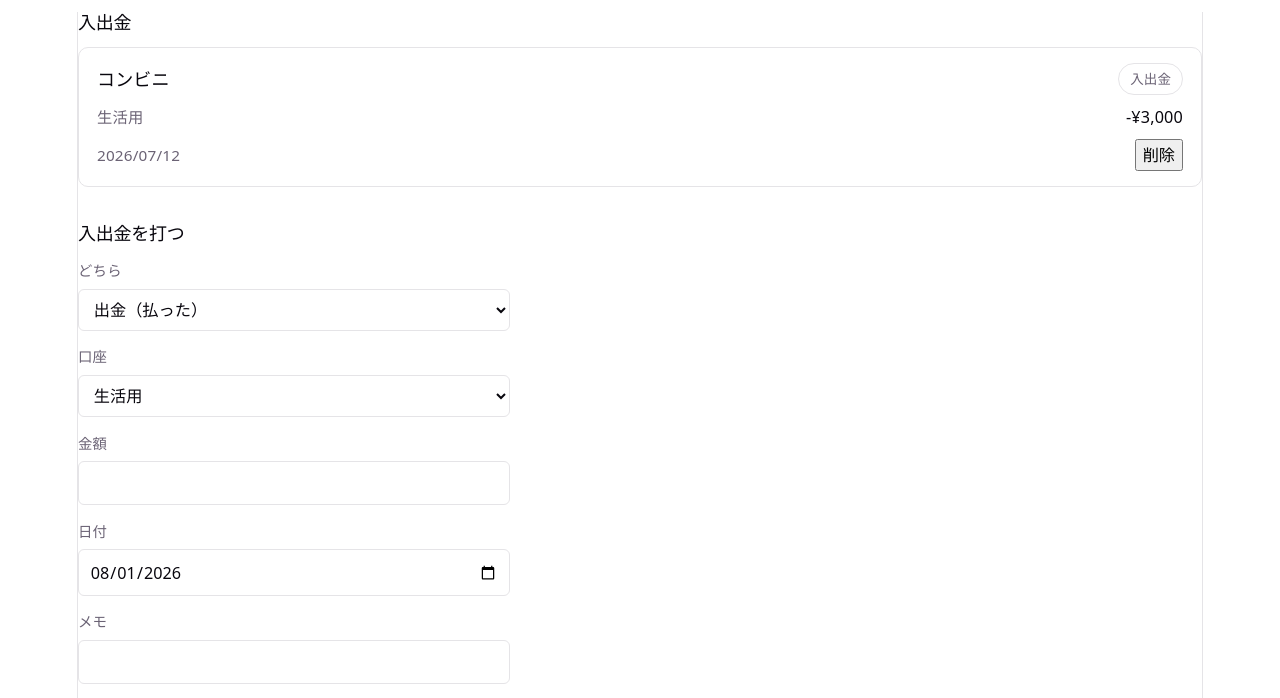
一覧 › 消せない履歴のメッセージをそのまま出す
This screenshot has width=1280, height=698.
Click the button "削除": [1159, 155] box [1135,139,1183,171]
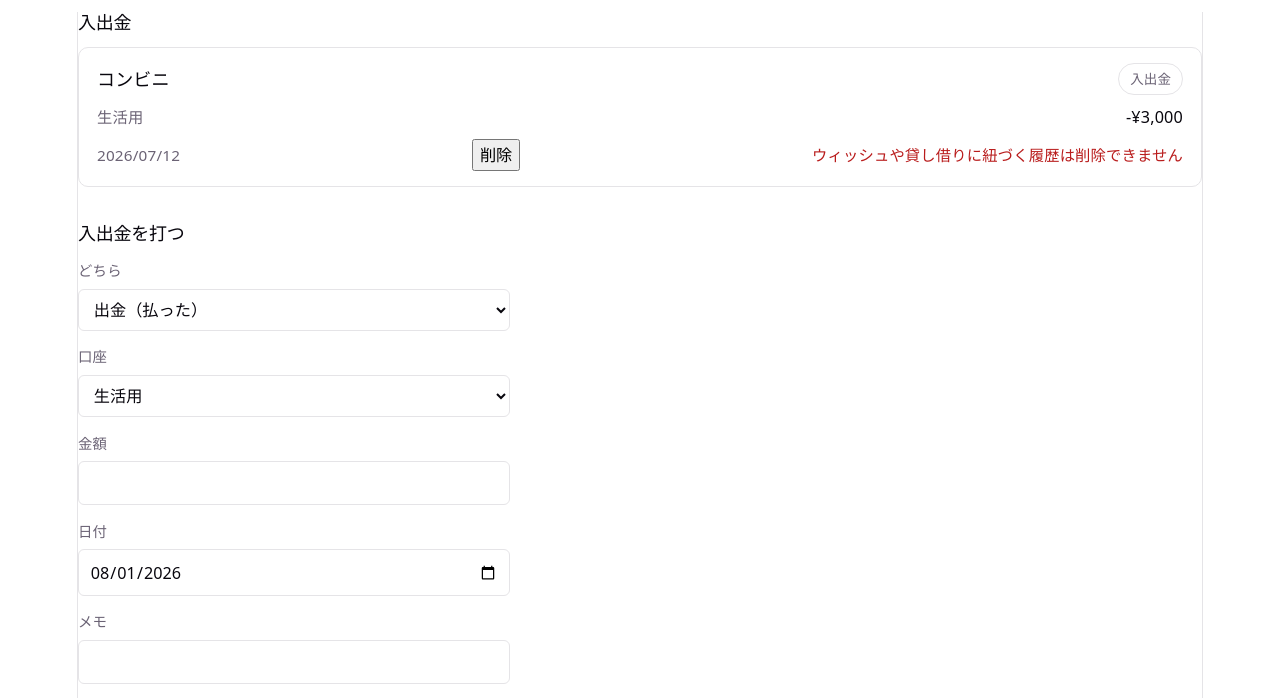
Result: the text "ウィッシュや貸し借りに紐づく履歴は削除できません" is shown at [812,142,1183,168]
